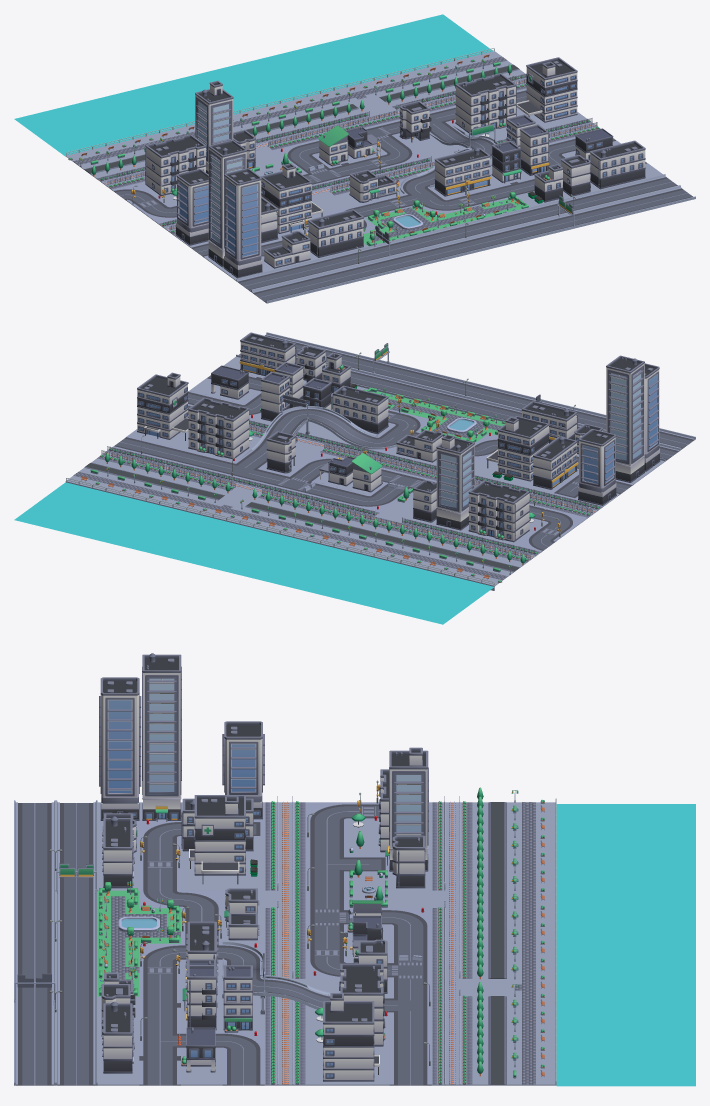
File: City-transformed.glb
3 views of the same model, one above another, from view 1: azimuth 30°, elevation 25°; view 2: azimuth 150°, elevation 25°; view 3: azimuth 270°, elevation 25° (orthographic). The views are drawn at different scales.
Visible parts, largest first — view 1: square_water_detail2, road-driveway-single.003, road-driveway-single.002, tile-low108, tile-low108.001, building-skyscraper-b, building-n4, building-j4, building-skyscraper-d, building-n, building-j, building-skyscraper-a (+30 smaller); view 2: square_water_detail2, road-driveway-single.002, tile-low108, road-driveway-single.003, building-skyscraper-d, tile-low108.001, building-skyscraper-c, building-j, building-j4, building-n4, driveway-long30, building-skyscraper-a (+37 smaller); view 3: square_water_detail2, road-driveway-single.002, tile-low108, road-driveway-single.003, tile-low108.001, building-skyscraper-d, building-skyscraper-b, driveway-long30, building-n4, building-n, floor-stone265.001, building-skyscraper-c (+33 smaller).
Part boxes in pixels (x1,y1,x2,y2): square_water_detail2: (14,14,492,156); road-driveway-single.003: (236,174,695,303); road-driveway-single.002: (112,88,649,258); tile-low108: (66,51,526,205); tile-low108.001: (158,107,600,246); building-skyscraper-b: (223,168,262,278); building-n4: (516,57,577,122); building-j4: (455,73,516,134); building-skyscraper-d: (208,139,247,267); building-n: (260,163,323,233); building-j: (145,134,206,195); building-skyscraper-a: (175,169,208,245); square_water_detail2: (14,482,493,624); road-driveway-single.002: (113,375,633,552); tile-low108: (65,447,544,586); road-driveway-single.003: (236,332,695,461); building-skyscraper-d: (606,355,644,482); tile-low108.001: (128,405,618,517); building-skyscraper-c: (436,434,474,530); building-j: (468,480,529,542); building-j4: (188,397,249,459); building-n4: (137,372,188,440); driveway-long30: (84,462,519,572); building-skyscraper-a: (578,429,616,505); square_water_detail2: (556,804,695,1086); road-driveway-single.002: (139,802,431,1085); tile-low108: (348,802,556,1085); road-driveway-single.003: (14,800,97,1085); tile-low108.001: (181,802,389,1085); building-skyscraper-d: (142,653,181,821); building-skyscraper-b: (99,677,141,820); driveway-long30: (488,802,506,1084); building-n4: (323,993,379,1081); building-n: (189,795,245,884); floor-stone265.001: (515,802,535,1084); building-skyscraper-c: (385,747,428,871).
Size of the model in its own units: 96.42 by 25.73 by 98.
11 materials, 7 textured.
